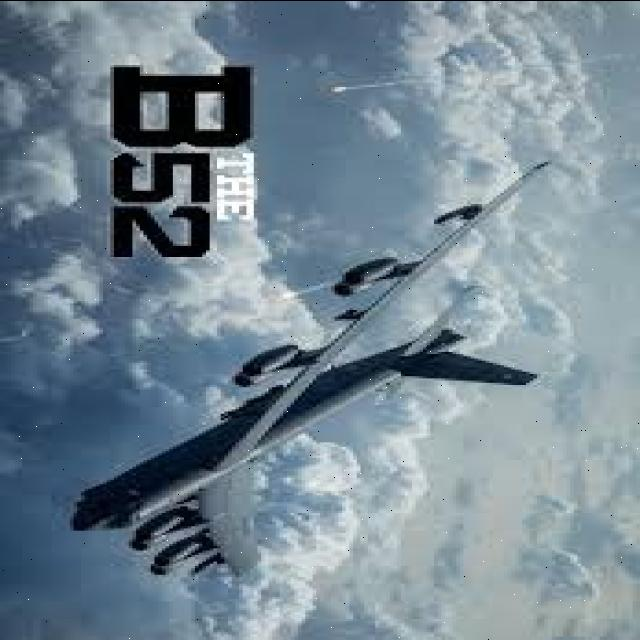B52: (51, 142, 590, 640)
